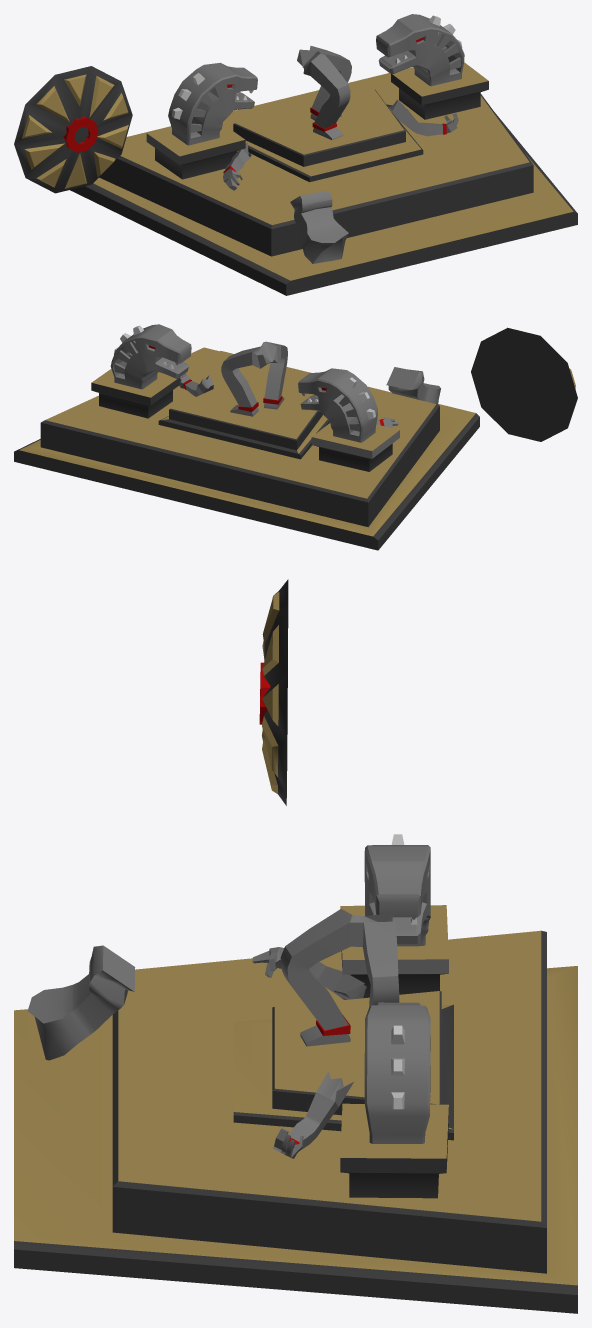
Rendered from model-templeMask2.fbx.
3 views of the same model, one above another, from view 1: azimuth 30°, elevation 25°; view 2: azimuth 150°, elevation 25°; view 3: azimuth 270°, elevation 25° (orthographic). The views are drawn at different scales.
Visible parts, largest first — view 1: main, shield, torso, arm2, arm1; view 2: main, shield, torso, arm2; view 3: main, torso, shield, arm2, arm1.
Part boxes in pixels (x1,y1,x2,y2): main: [70, 14, 577, 295]; shield: [14, 66, 132, 193]; torso: [290, 190, 348, 263]; arm2: [386, 99, 458, 136]; arm1: [223, 142, 251, 190]; main: [14, 324, 479, 550]; shield: [471, 327, 577, 441]; torso: [386, 367, 440, 404]; arm2: [179, 373, 213, 396]; main: [14, 834, 577, 1313]; torso: [27, 945, 135, 1060]; shield: [259, 579, 288, 805]; arm2: [273, 1071, 353, 1158]; arm1: [252, 947, 366, 999].
Bounding box in the file's own units: 202 × 70.88 × 110.
